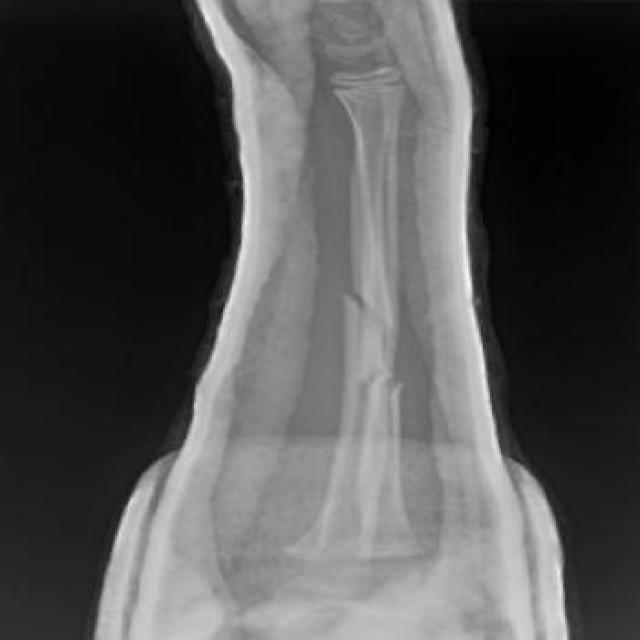fracture: (324, 364, 418, 433), (335, 280, 395, 334)
